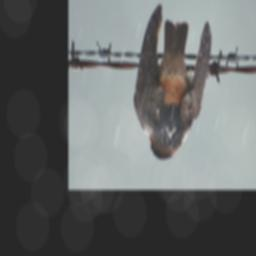Swallow: (133, 2, 213, 160)
